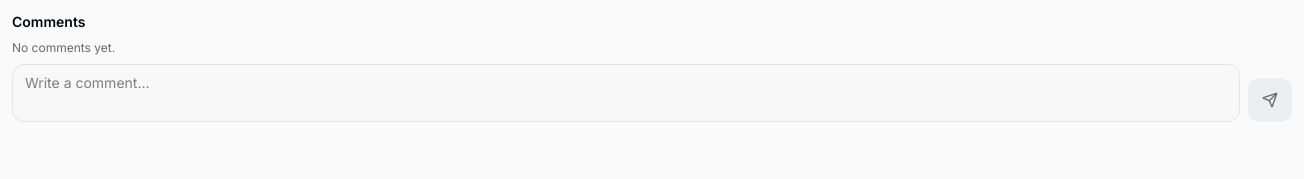
Test: IssueComments › keeps an offline comment as pending
Expected: the text "No comments yet." is shown, [12,40,115,55]
In the text box labelled "Write a comment…": (626, 93) [12,64,1240,122], type "Di ruang chiller, tanpa sinyal"
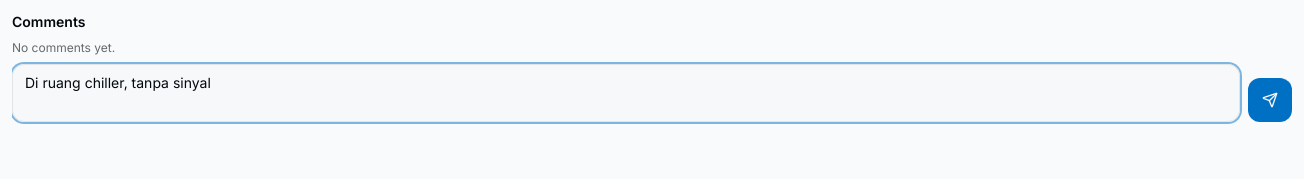
Click the button named "send": (1270, 100) [1248,78,1292,122]
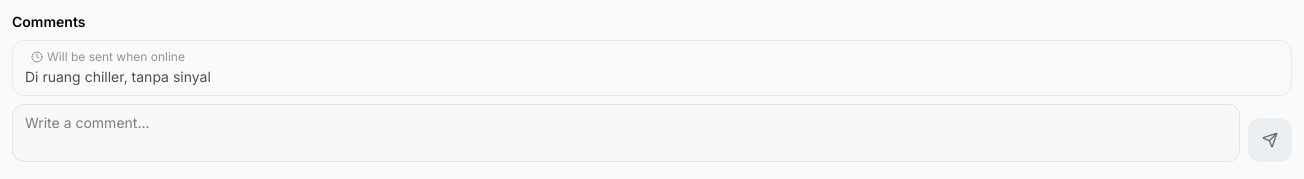
Expected: the list item shows "Di ruang chiller, tanpa sinyal", [25,68,211,85]
Expected: the list item shows "Will be sent", [47,49,185,64]
